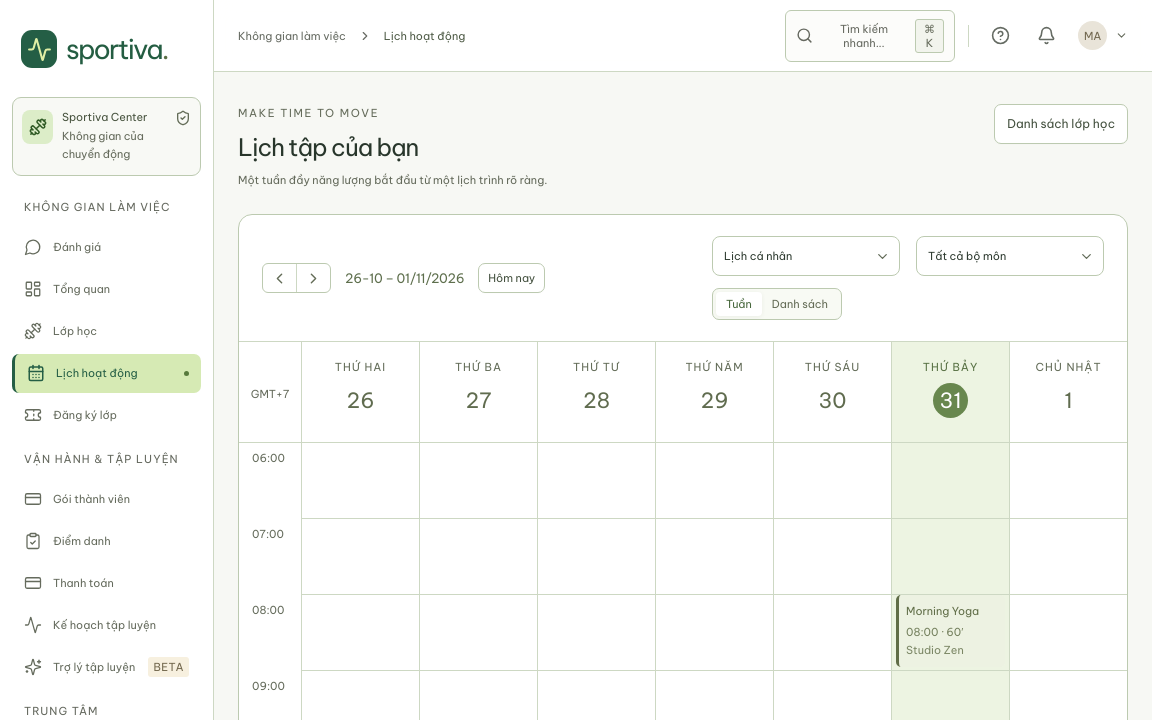
Test case: Lớp học và lịch hoạt động — phần 5 › member schedule uses only active bookings, and all-class scope can show remaining classes
The image size is (1152, 720).
(page scrolled)
Click the button "Danh sách" at (800,304), box left=762, top=292, right=838, bottom=316
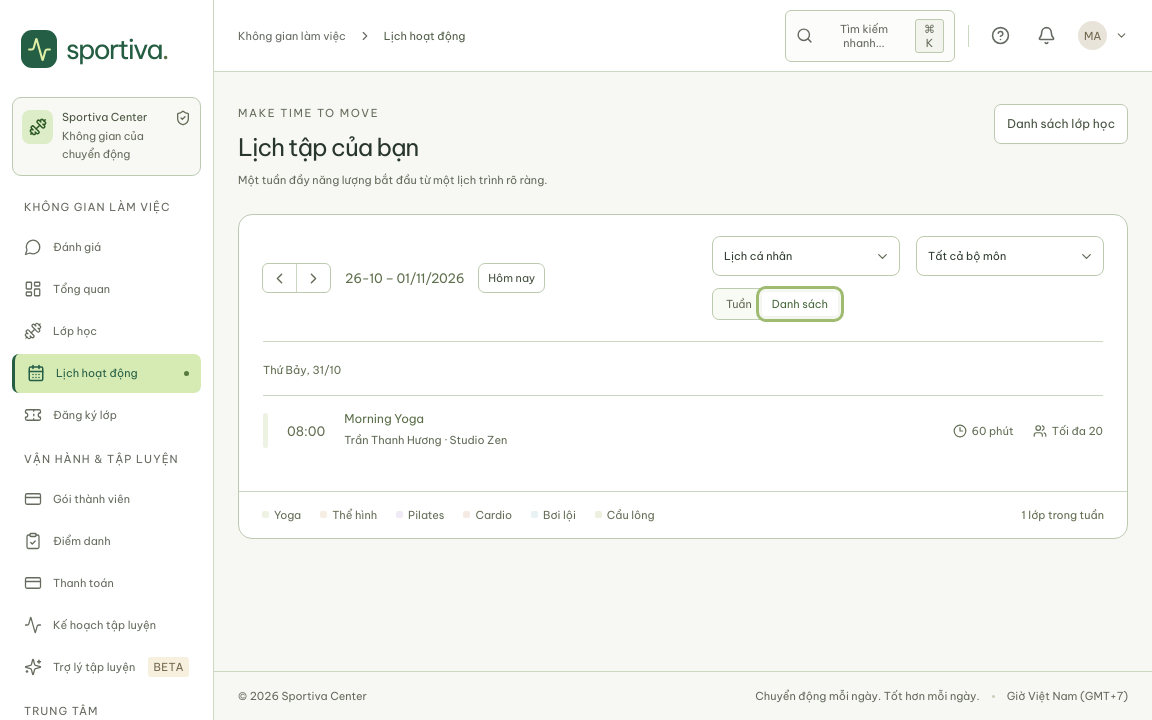
Expected: the heading "Morning Yoga" is shown, left=344, top=411, right=424, bottom=426
Expected: the heading "Full Body Strength" is not shown
Select "Tất cả lớp" in the 1st dropdown named "Phạm vi lịch học" at (806,256), box left=712, top=236, right=900, bottom=276
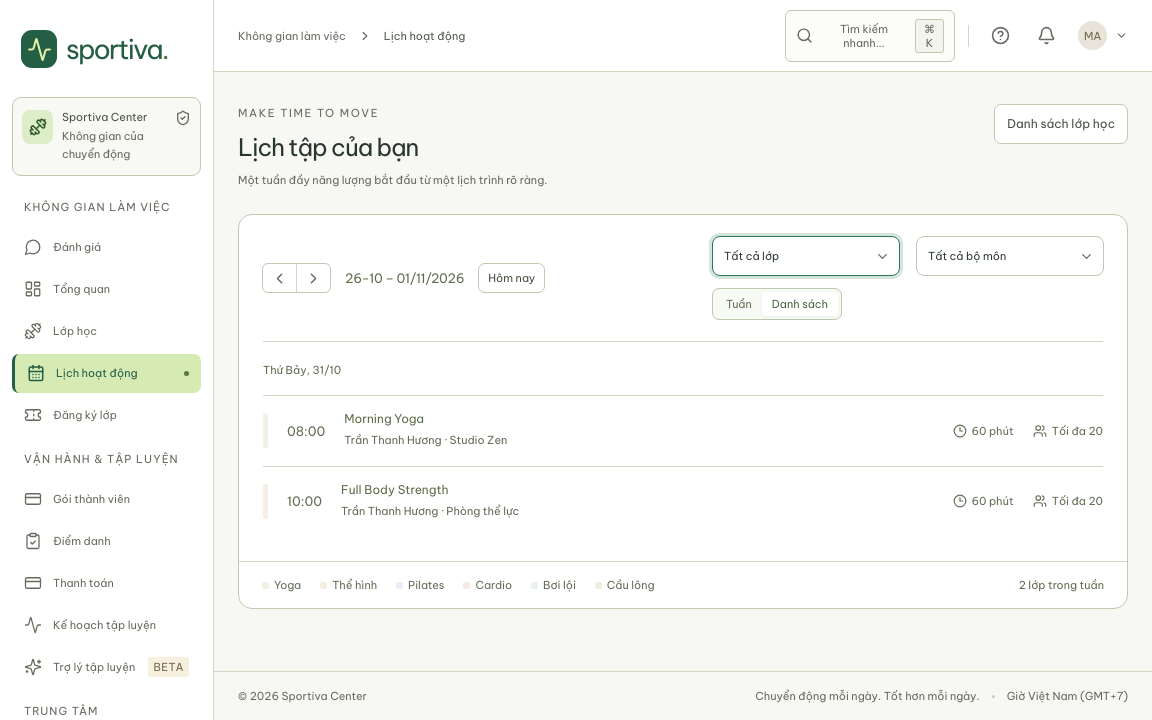
Now the heading "Full Body Strength" is shown, box left=341, top=482, right=449, bottom=497
